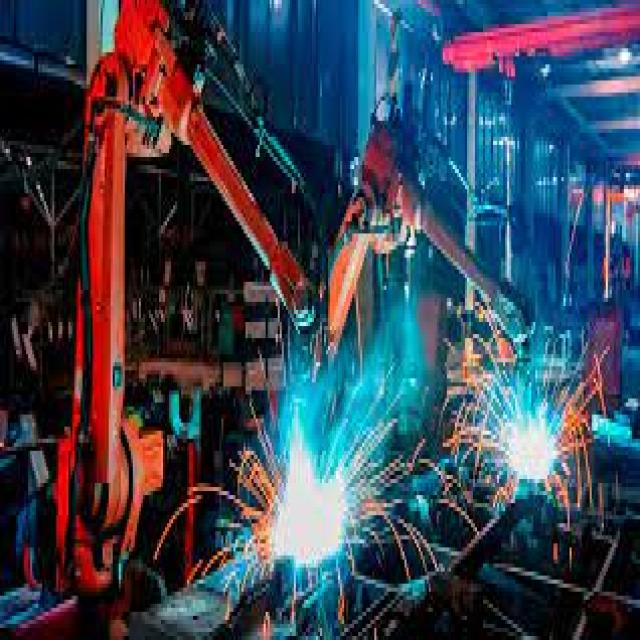welding: (273, 448, 356, 566), (509, 419, 558, 477)
